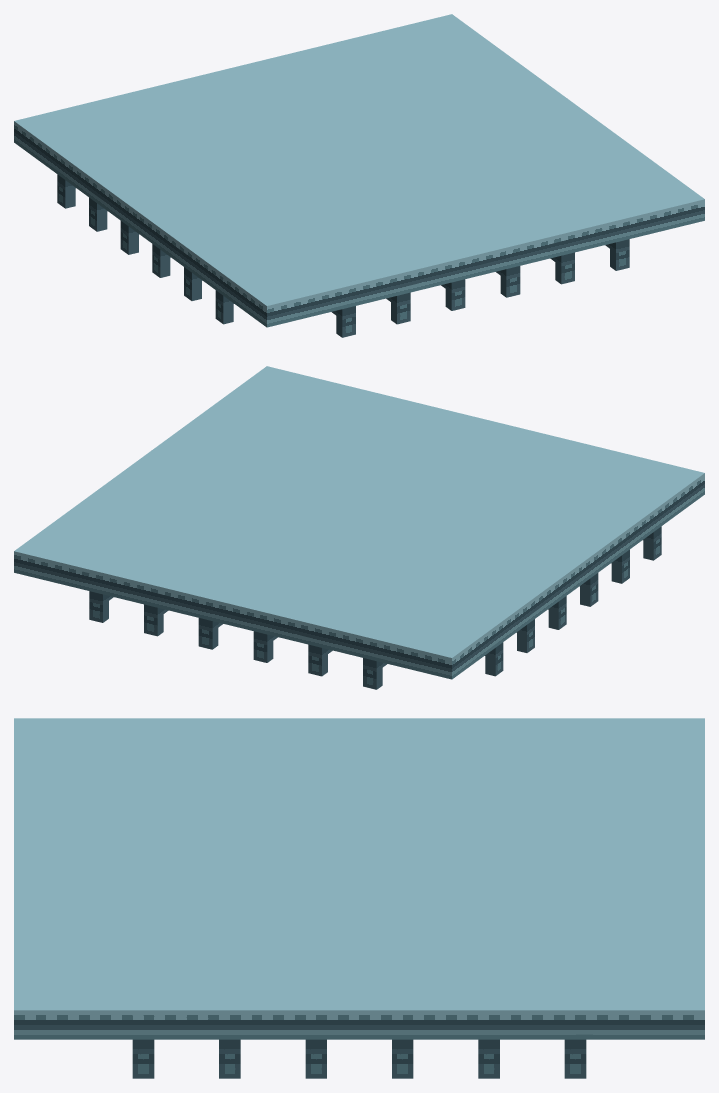
File: lighthouse_platform_aao.fezao.glb
3 views of the same model, one above another, from view 1: azimuth 30°, elevation 25°; view 2: azimuth 150°, elevation 25°; view 3: azimuth 270°, elevation 25° (orthographic). The views are drawn at different scales.
Parts seen in each view (by area): view 1: LIGHTHOUSE_PLATFORM_AAO; view 2: LIGHTHOUSE_PLATFORM_AAO; view 3: LIGHTHOUSE_PLATFORM_AAO.
Part boxes in pixels (x1,y1,x2,y2): LIGHTHOUSE_PLATFORM_AAO: [14, 14, 704, 337]; LIGHTHOUSE_PLATFORM_AAO: [14, 366, 704, 689]; LIGHTHOUSE_PLATFORM_AAO: [14, 718, 704, 1078].
Bounding box in the file's own units: 8 × 0.875 × 8.
1 material, 1 textured.
